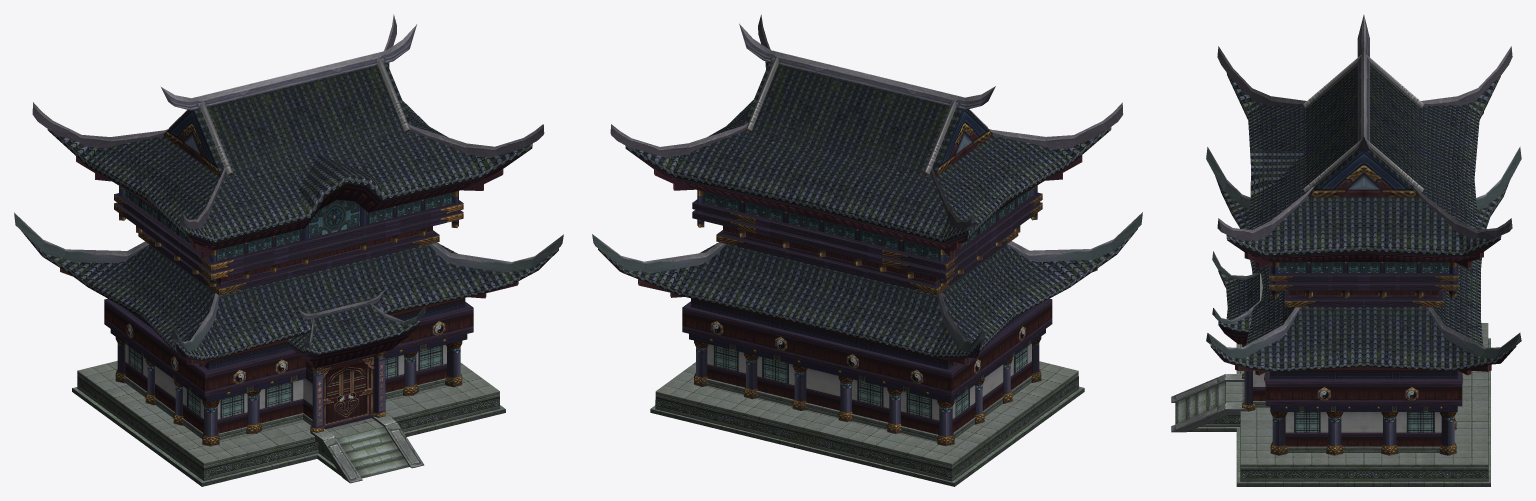
The model's file is QYS_Town_A_02_LOD0.FBX.
3 views of the same model, side by side, from view 1: azimuth 30°, elevation 25°; view 2: azimuth 150°, elevation 25°; view 3: azimuth 270°, elevation 25° (orthographic). The views are drawn at different scales.
Parts seen in each view (by area): view 1: QYS_Town_A_02_Lod0; view 2: QYS_Town_A_02_Lod0; view 3: QYS_Town_A_02_Lod0.
Boxes of the visible parts, box(x1,y1,x2,y2) form: QYS_Town_A_02_Lod0: box(14, 14, 563, 486); QYS_Town_A_02_Lod0: box(592, 14, 1142, 486); QYS_Town_A_02_Lod0: box(1171, 15, 1521, 486).
Size of the model in its own units: 3239 by 2741 by 2565.
